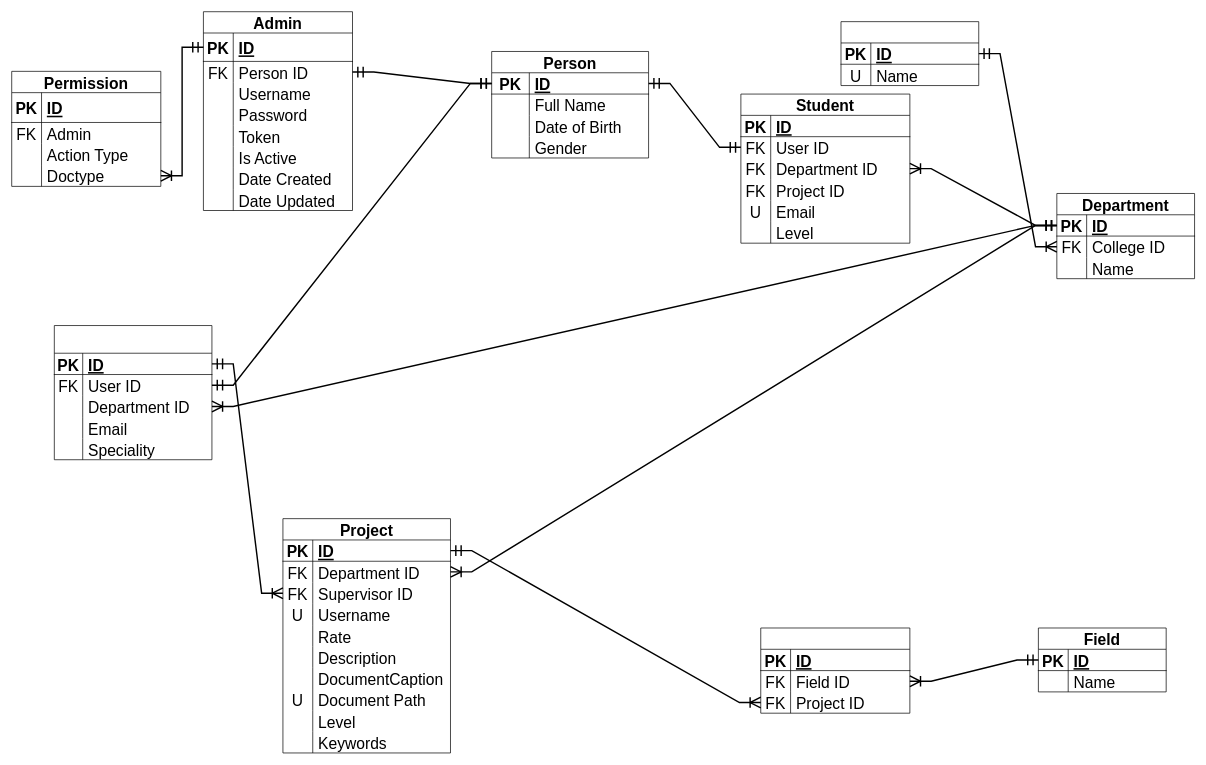
Image size: 1206x765. Some labels were removed from this diagram. Here are the shapes that lost their labels. From the top down, the box of each, then its label:
(840, 21, 979, 86): College
(54, 325, 212, 460): Supervisor
(760, 627, 910, 713): Project Field
